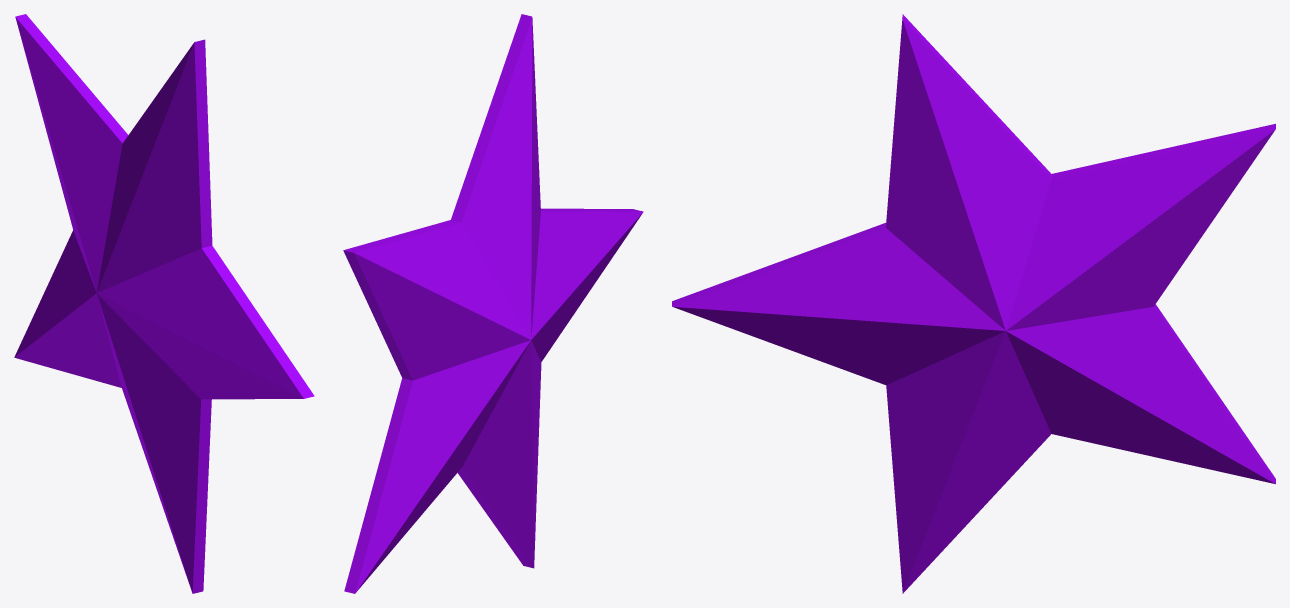
File: star_purple.glb
3 renders of one model, left to right at view 1: azimuth 30°, elevation 25°; view 2: azimuth 150°, elevation 25°; view 3: azimuth 270°, elevation 25°, orthographic. The views are drawn at different scales.
Visible parts, largest first — view 1: Star; view 2: Star; view 3: Star.
Part boxes in pixels (box(x1,y1,x2,y2)): Star: box(14, 14, 314, 593); Star: box(343, 14, 643, 593); Star: box(672, 14, 1275, 593).
Bounding box in the file's own units: 0.917 × 4.58 × 4.35.
